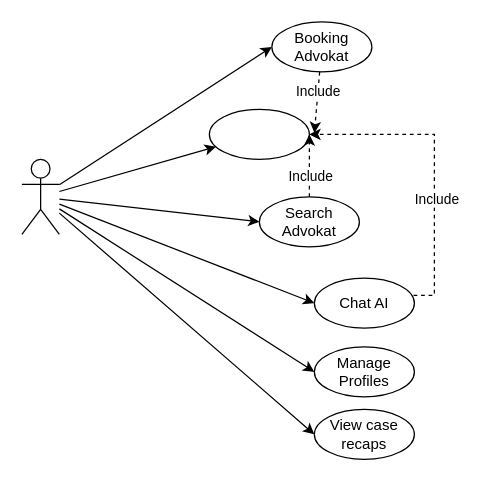
Image size: 480x481. Some labels were removed from this diagram. The box of each missing label's shape, as (x1, y1, x2, y2) in pixels:
Login: (208, 108, 309, 159)
User: (21, 158, 59, 234)
